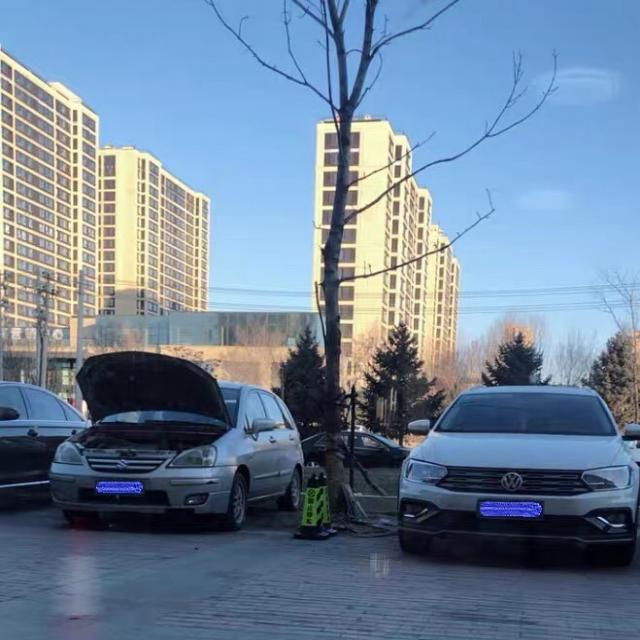car: (47, 351, 303, 531), (392, 384, 639, 558), (0, 379, 94, 498), (302, 429, 408, 468)
reflective_cone: (290, 471, 330, 538)
